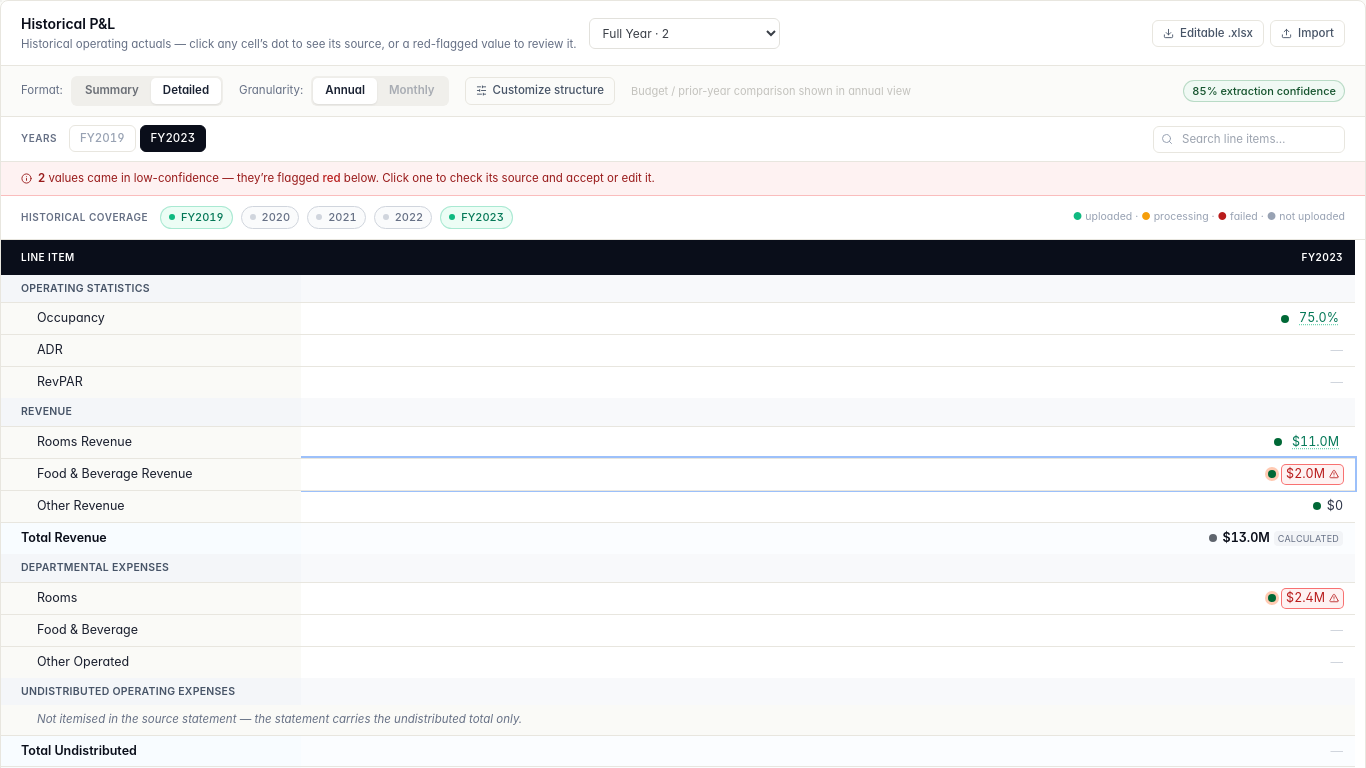
Scenario: Historicals worksheet — SOURCE panel is pinned to the column’s own document › a flagged 2023 cell names the 2023 statement, its exact field, and corrects on that document
The image size is (1366, 768).
What coordinates should you click on to do the following:
click the button "$2.0M"
I would click on:
 (1313, 474)
Its box is [1282,465,1343,484].
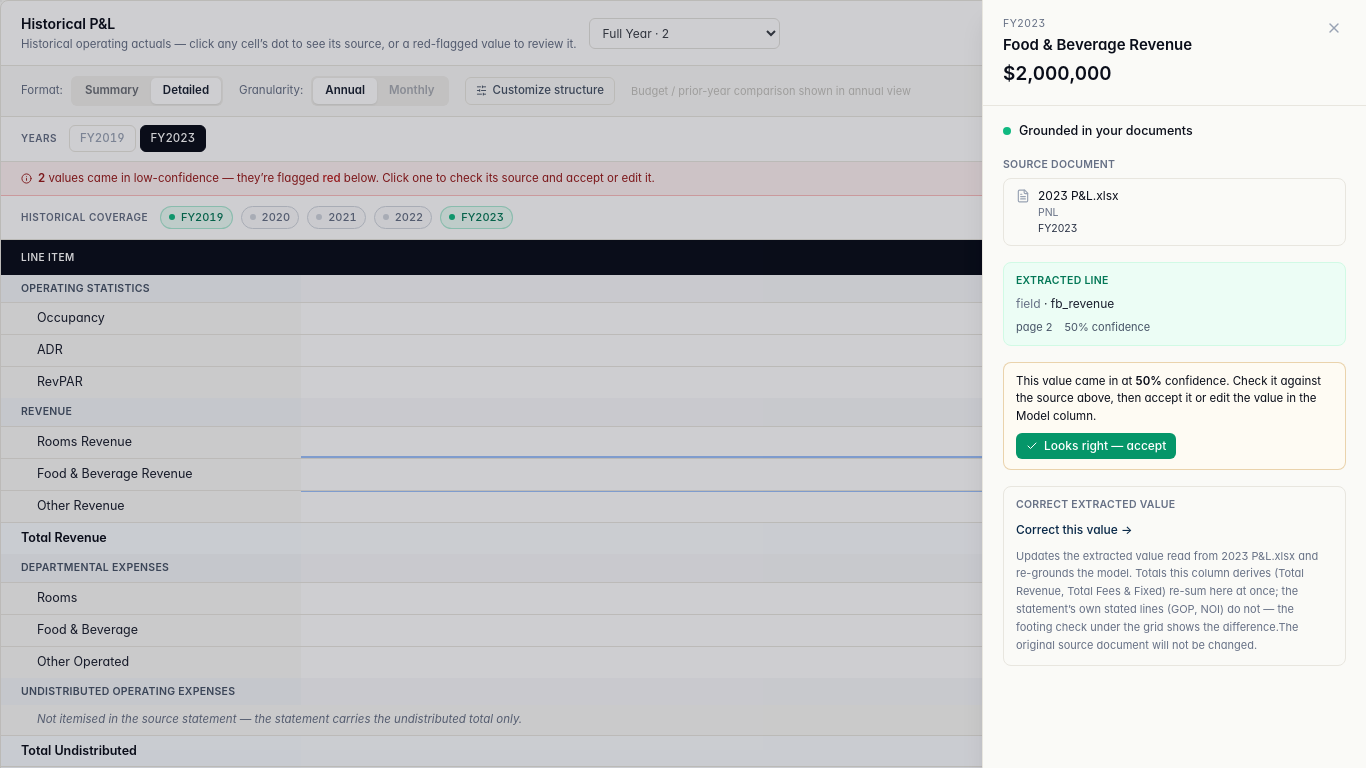
expect the text "Source document" is shown: met, box [1003,158,1115,170]
expect the text "2023 P&L.xlsx" is shown: met, box [1038,187,1119,205]
expect the text "50% confidence" is shown: met, box [1064,318,1150,335]
